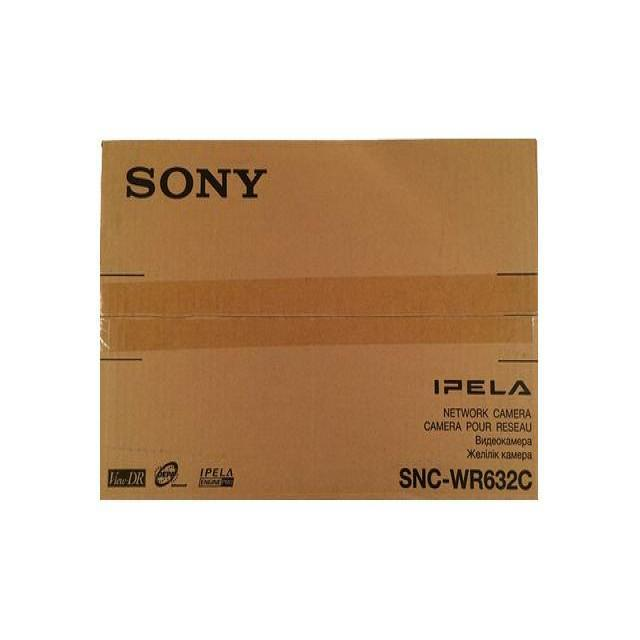Cardboard: (97, 141, 538, 505)
